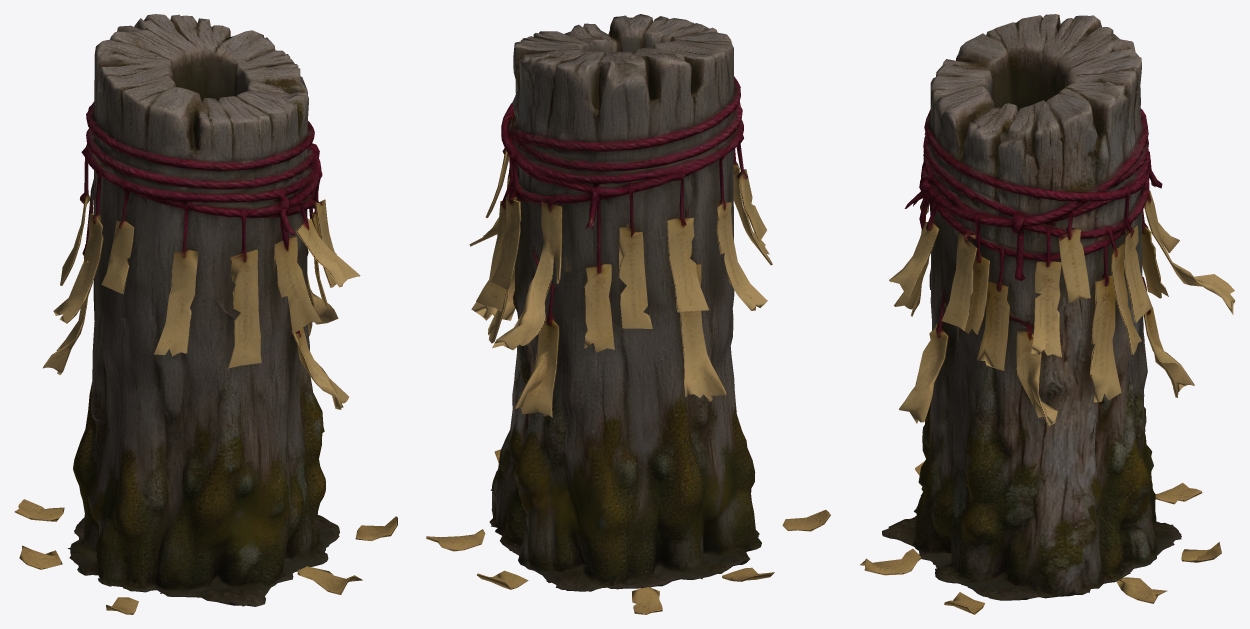
The picture shows the model from 3 angles, left to right: view 1: azimuth 30°, elevation 25°; view 2: azimuth 150°, elevation 25°; view 3: azimuth 270°, elevation 25°; orthographic projection. The views are drawn at different scales.
Visible parts, largest first — view 1: tripo_node_cd184371-1dd6-4251-a9ba-4d506b22c727; view 2: tripo_node_cd184371-1dd6-4251-a9ba-4d506b22c727; view 3: tripo_node_cd184371-1dd6-4251-a9ba-4d506b22c727.
Part boxes in pixels (x1,y1,x2,y2): tripo_node_cd184371-1dd6-4251-a9ba-4d506b22c727: [14, 14, 397, 614]; tripo_node_cd184371-1dd6-4251-a9ba-4d506b22c727: [426, 14, 830, 614]; tripo_node_cd184371-1dd6-4251-a9ba-4d506b22c727: [860, 14, 1235, 614].
Size of the model in its own units: 0.6837 by 1 by 0.6895.
Materials: 1 (1 with a texture image).
